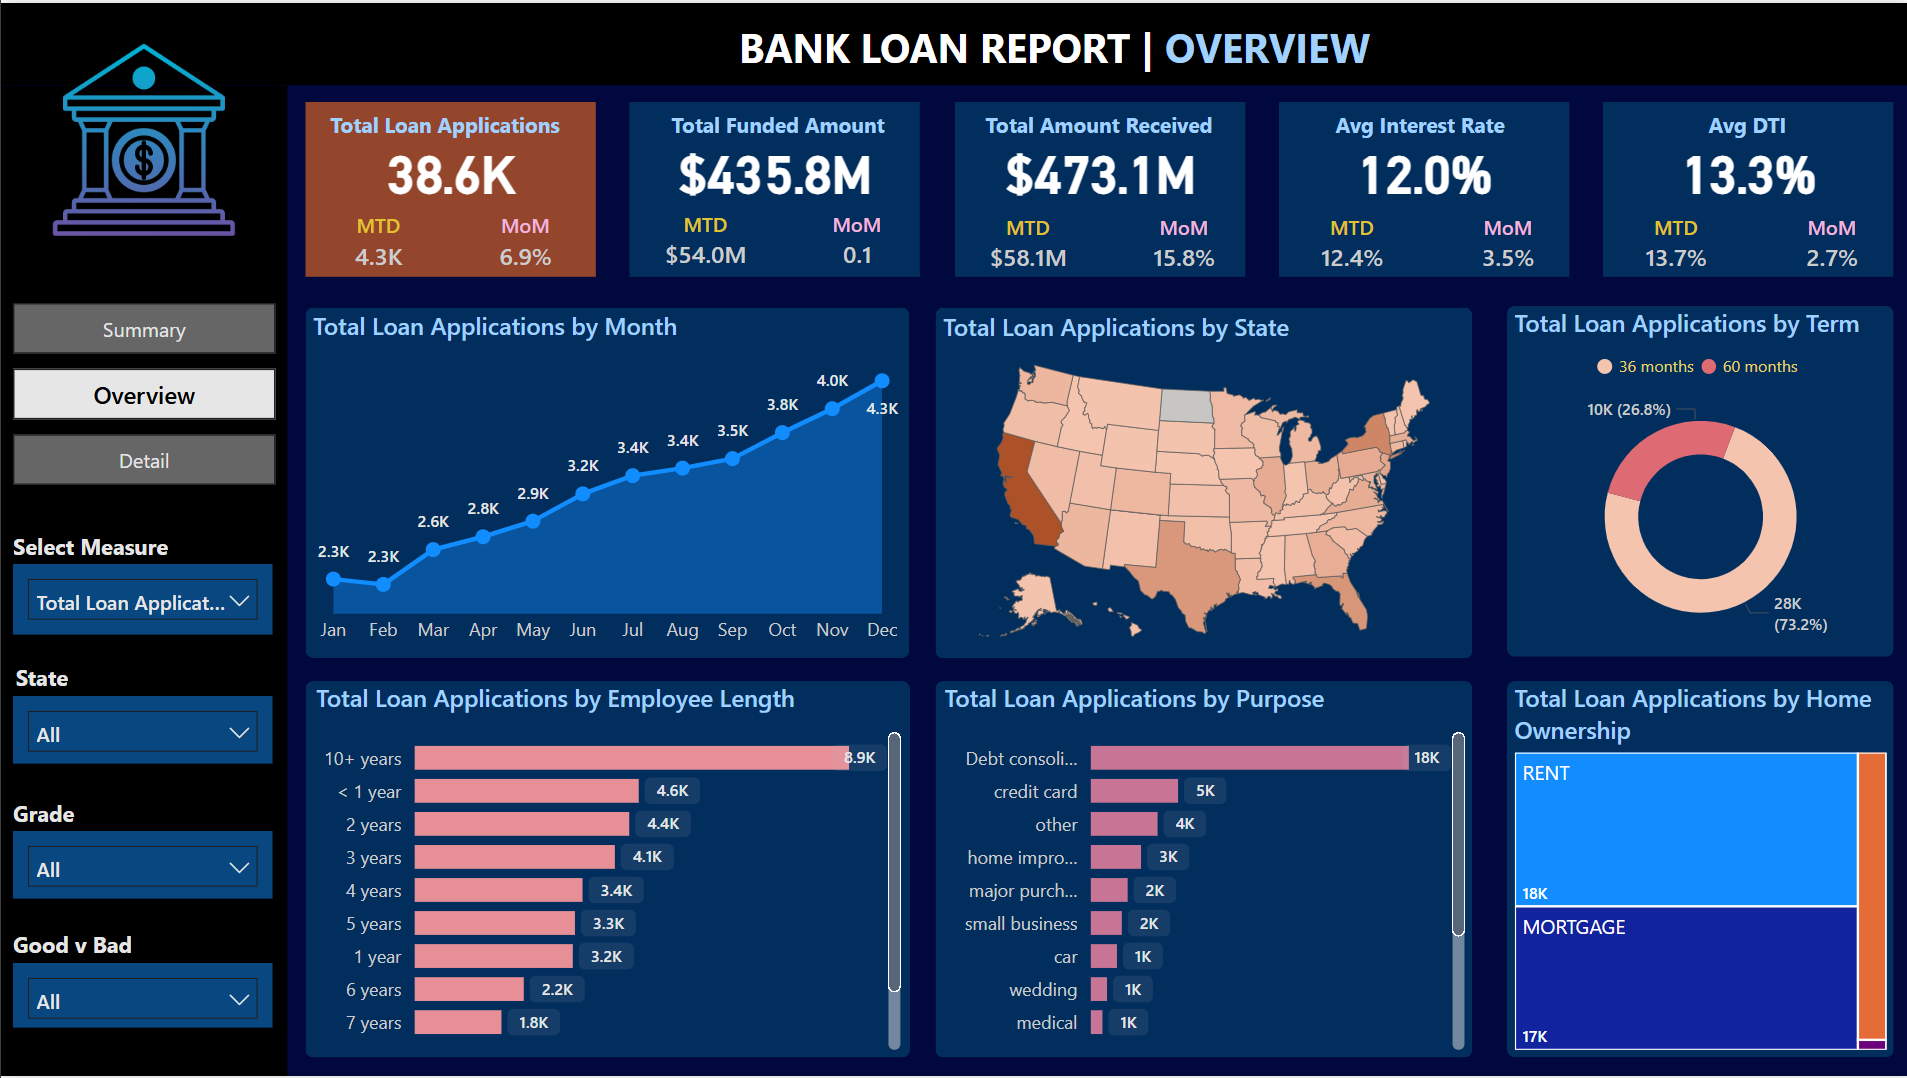

Layout of this report page (visuals, bound fields, positions):
{"tool":"powerbi","page":{"name":"Overview","canvas":[1280,720],"ordinal":1},"visuals":[{"type":"shape","box":[0,55.3,192.1,664.8],"z":0},{"type":"shape","box":[204.1,66.3,194.9,117.3],"z":0,"group":"g2"},{"type":"shape","box":[421.7,66.3,194.9,117.3],"z":0,"group":"g1"},{"type":"shape","box":[639.3,66.3,194.9,117.3],"z":0,"group":"g3"},{"type":"shape","box":[856.9,66.3,194.9,117.3],"z":0,"group":"g4"},{"type":"shape","box":[1074.5,66.3,194.9,117.3],"z":0,"group":"g5"},{"type":"card","fields":{"Values":["public bank_loan_data.Total Loan Applications"]},"box":[204.1,90.8,194.9,43.9],"z":1000,"group":"g2"},{"type":"card","fields":{"Values":["public bank_loan_data.Total Funded Amount"]},"box":[421.7,90.8,194.9,43.9],"z":1000,"group":"g1"},{"type":"card","fields":{"Values":["public bank_loan_data.Total Amount Recieved"]},"box":[639.3,90.8,194.9,43.9],"z":1000,"group":"g3"},{"type":"card","fields":{"Values":["public bank_loan_data.Avg Intrest Rate"]},"box":[856.9,90.8,194.9,43.9],"z":1000,"group":"g4"},{"type":"card","fields":{"Values":["public bank_loan_data.Avg DTI"]},"box":[1074.5,90.8,194.9,43.9],"z":1000,"group":"g5"},{"type":"shape","box":[204.1,204.1,405,235],"z":1000},{"type":"shape","box":[0,0,1279.6,55.1],"z":2000},{"type":"textbox","box":[204.1,66.3,194.9,34.7],"z":2000,"group":"g2"},{"type":"textbox","box":[421.7,66.3,194.9,34.7],"z":2000,"group":"g1"},{"type":"textbox","box":[639.3,66.3,194.9,34.7],"z":2000,"group":"g3"},{"type":"textbox","box":[856.9,66.3,194.9,34.7],"z":2000,"group":"g4"},{"type":"textbox","box":[1074.5,66.3,194.9,34.7],"z":2000,"group":"g5"},{"type":"card","title":"MTD","fields":{"Values":["public bank_loan_data.MTD Loan Apllications"]},"box":[218.4,139.8,69.4,45.9],"z":3000,"group":"g2"},{"type":"card","title":"MTD","fields":{"Values":["public bank_loan_data.MTD Recieved Amount"]},"box":[653.6,140.8,69.4,45.9],"z":3000,"group":"g3"},{"type":"card","title":"MTD","fields":{"Values":["public bank_loan_data.MTD Avg INT Rate"]},"box":[871.2,140.8,69.4,45.9],"z":3000,"group":"g4"},{"type":"card","title":"MTD","fields":{"Values":["public bank_loan_data.MTD Avg DTI"]},"box":[1088.8,140.8,69.4,45.9],"z":3000,"group":"g5"},{"type":"textbox","box":[1,436.5,66.4,34.2],"z":3000},{"type":"group","id":"g1","title":"Group 1","box":[421.7,66.3,194.9,117.3],"z":4000},{"type":"card","title":"MoM","fields":{"Values":["public bank_loan_data.MoM Loan Applications"]},"box":[316.3,139.8,69.4,45.9],"z":4000,"group":"g2"},{"type":"card","title":"MoM","fields":{"Values":["public bank_loan_data.MoM Recived Amount"]},"box":[757.7,140.8,69.4,45.9],"z":4000,"group":"g3"},{"type":"card","title":"MoM","fields":{"Values":["public bank_loan_data.MoM AVG INT Rate"]},"box":[975.3,140.8,69.4,45.9],"z":4000,"group":"g4"},{"type":"card","title":"MoM","fields":{"Values":["public bank_loan_data.MoM AVG DTI"]},"box":[1192.9,140.8,69.4,45.9],"z":4000,"group":"g5"},{"type":"card","title":"MTD","fields":{"Values":["public bank_loan_data.MTD Funded Amount"]},"box":[437.8,138.8,69.4,45.9],"z":5000},{"type":"card","title":"MoM","fields":{"Values":["public bank_loan_data.MoM Funded Amount"]},"box":[538.8,138.8,69.4,45.9],"z":6000},{"type":"textbox","box":[489.8,6,520,46.3],"z":7000},{"type":"group","id":"g2","title":"Group 1","box":[204.1,66.3,194.9,119.4],"z":8000},{"type":"group","id":"g3","title":"Group 1","box":[639.3,66.3,194.9,120.4],"z":9000},{"type":"group","id":"g4","title":"Group 1","box":[856.9,66.3,194.9,120.4],"z":10000},{"type":"group","id":"g5","title":"Group 1","box":[1074.5,66.3,194.9,120.4],"z":11000},{"type":"slicer","fields":{"Values":["public bank_loan_data.address_state"]},"box":[8,464.7,174,45.3],"z":12000},{"type":"slicer","fields":{"Values":["public bank_loan_data.grade"]},"box":[8,555.2,174,45.3],"z":13000},{"type":"textbox","box":[3,528,66.4,34.2],"z":14000},{"type":"slicer","fields":{"Values":["public bank_loan_data.Good Vs Bad Loan"]},"box":[8,643.7,174,43.2],"z":15000},{"type":"textbox","box":[3,615.5,159.9,34.2],"z":16000},{"type":"areaChart","fields":{"Y":["public bank_loan_data.Total Loan Applications"],"Category":["Date Table.Month"]},"box":[204.2,205.2,405.3,233.3],"z":17000},{"type":"slicer","fields":{"Values":["Select Measure.Select Measure"]},"box":[8,376.2,174,47.3],"z":18000},{"type":"textbox","box":[3,349,170,34.2],"z":19000},{"type":"shape","box":[626.6,204.2,360.1,235.4],"z":20000},{"type":"shapeMap","fields":{"Value":["public bank_loan_data.Total Loan Applications"],"Category":["public bank_loan_data.address_state"]},"box":[626.6,206.2,360.1,233.3],"z":21000},{"type":"shape","box":[1009.8,203.2,259.5,235.4],"z":22000},{"type":"donutChart","fields":{"Y":["public bank_loan_data.Total Loan Applications"],"Category":["public bank_loan_data.term"]},"box":[1009.8,203.2,259.5,234.3],"z":23000},{"type":"shape","box":[204.2,454.6,405.3,252.4],"z":24000},{"type":"barChart","fields":{"Y":["public bank_loan_data.Total Loan Applications"],"Category":["public bank_loan_data.emp_length"]},"box":[206.2,454.6,402.3,252.4],"z":25000},{"type":"shape","box":[626.6,454.6,360.1,252.4],"z":26000},{"type":"barChart","fields":{"Y":["public bank_loan_data.Total Loan Applications"],"Category":["public bank_loan_data.purpose"]},"box":[627.6,454.6,359.1,252.4],"z":27000},{"type":"shape","box":[1009.8,454.6,259.5,252.4],"z":28000},{"type":"treemap","fields":{"Values":["public bank_loan_data.Total Loan Applications"],"Group":["public bank_loan_data.home_ownership"]},"box":[1009.8,454.6,259.5,252.4],"z":29000},{"type":"pageNavigator","box":[8,201.2,176,122.7],"z":29001},{"type":"image","box":[26.2,16.1,138.8,150.9],"z":29002}]}

Visuals, with their boxes in screenshot pixels (x1, y1, x2, y2), scaled from the page's 1280x720 canvas onto the 1907x1078 screenshot:
shape: {"left": 0, "top": 83, "right": 286, "bottom": 1077}
shape: {"left": 304, "top": 99, "right": 594, "bottom": 275}
shape: {"left": 628, "top": 99, "right": 919, "bottom": 275}
shape: {"left": 952, "top": 99, "right": 1243, "bottom": 275}
shape: {"left": 1277, "top": 99, "right": 1567, "bottom": 275}
shape: {"left": 1601, "top": 99, "right": 1891, "bottom": 275}
card - public bank_loan_data.Total Loan Applications: {"left": 304, "top": 136, "right": 594, "bottom": 202}
card - public bank_loan_data.Total Funded Amount: {"left": 628, "top": 136, "right": 919, "bottom": 202}
card - public bank_loan_data.Total Amount Recieved: {"left": 952, "top": 136, "right": 1243, "bottom": 202}
card - public bank_loan_data.Avg Intrest Rate: {"left": 1277, "top": 136, "right": 1567, "bottom": 202}
card - public bank_loan_data.Avg DTI: {"left": 1601, "top": 136, "right": 1891, "bottom": 202}
shape: {"left": 304, "top": 306, "right": 907, "bottom": 657}
shape: {"left": 0, "top": 0, "right": 1906, "bottom": 82}
textbox: {"left": 304, "top": 99, "right": 594, "bottom": 151}
textbox: {"left": 628, "top": 99, "right": 919, "bottom": 151}
textbox: {"left": 952, "top": 99, "right": 1243, "bottom": 151}
textbox: {"left": 1277, "top": 99, "right": 1567, "bottom": 151}
textbox: {"left": 1601, "top": 99, "right": 1891, "bottom": 151}
"MTD" card: {"left": 325, "top": 209, "right": 429, "bottom": 278}
"MTD" card: {"left": 974, "top": 211, "right": 1077, "bottom": 280}
"MTD" card: {"left": 1298, "top": 211, "right": 1401, "bottom": 280}
"MTD" card: {"left": 1622, "top": 211, "right": 1726, "bottom": 280}
textbox: {"left": 1, "top": 654, "right": 100, "bottom": 705}
"Group 1" group: {"left": 628, "top": 99, "right": 919, "bottom": 275}
"MoM" card: {"left": 471, "top": 209, "right": 575, "bottom": 278}
"MoM" card: {"left": 1129, "top": 211, "right": 1232, "bottom": 280}
"MoM" card: {"left": 1453, "top": 211, "right": 1556, "bottom": 280}
"MoM" card: {"left": 1777, "top": 211, "right": 1881, "bottom": 280}
"MTD" card: {"left": 652, "top": 208, "right": 756, "bottom": 277}
"MoM" card: {"left": 803, "top": 208, "right": 906, "bottom": 277}
textbox: {"left": 730, "top": 9, "right": 1504, "bottom": 78}
"Group 1" group: {"left": 304, "top": 99, "right": 594, "bottom": 278}
"Group 1" group: {"left": 952, "top": 99, "right": 1243, "bottom": 280}
"Group 1" group: {"left": 1277, "top": 99, "right": 1567, "bottom": 280}
"Group 1" group: {"left": 1601, "top": 99, "right": 1891, "bottom": 280}
slicer - public bank_loan_data.address_state: {"left": 12, "top": 696, "right": 271, "bottom": 764}
slicer - public bank_loan_data.grade: {"left": 12, "top": 831, "right": 271, "bottom": 899}
textbox: {"left": 4, "top": 791, "right": 103, "bottom": 842}
slicer - public bank_loan_data.Good Vs Bad Loan: {"left": 12, "top": 964, "right": 271, "bottom": 1028}
textbox: {"left": 4, "top": 922, "right": 243, "bottom": 973}
areaChart - public bank_loan_data.Total Loan Applications x Date Table.Month: {"left": 304, "top": 307, "right": 908, "bottom": 657}
slicer - Select Measure.Select Measure: {"left": 12, "top": 563, "right": 271, "bottom": 634}
textbox: {"left": 4, "top": 523, "right": 258, "bottom": 574}
shape: {"left": 934, "top": 306, "right": 1470, "bottom": 658}
shapeMap - public bank_loan_data.Total Loan Applications x public bank_loan_data.address_state: {"left": 934, "top": 309, "right": 1470, "bottom": 658}
shape: {"left": 1504, "top": 304, "right": 1891, "bottom": 657}
donutChart - public bank_loan_data.Total Loan Applications x public bank_loan_data.term: {"left": 1504, "top": 304, "right": 1891, "bottom": 655}
shape: {"left": 304, "top": 681, "right": 908, "bottom": 1059}
barChart - public bank_loan_data.Total Loan Applications x public bank_loan_data.emp_length: {"left": 307, "top": 681, "right": 907, "bottom": 1059}
shape: {"left": 934, "top": 681, "right": 1470, "bottom": 1059}
barChart - public bank_loan_data.Total Loan Applications x public bank_loan_data.purpose: {"left": 935, "top": 681, "right": 1470, "bottom": 1059}
shape: {"left": 1504, "top": 681, "right": 1891, "bottom": 1059}
treemap - public bank_loan_data.Total Loan Applications x public bank_loan_data.home_ownership: {"left": 1504, "top": 681, "right": 1891, "bottom": 1059}
pageNavigator: {"left": 12, "top": 301, "right": 274, "bottom": 485}
image: {"left": 39, "top": 24, "right": 246, "bottom": 250}
